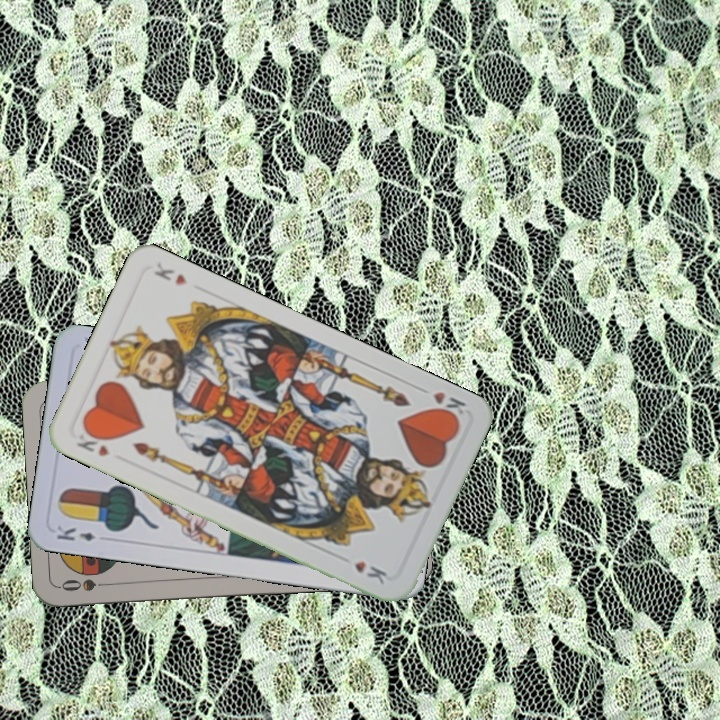EK: (52, 522, 98, 544)
HK: (413, 382, 469, 423), (72, 424, 113, 459)
SO: (57, 575, 116, 594)
